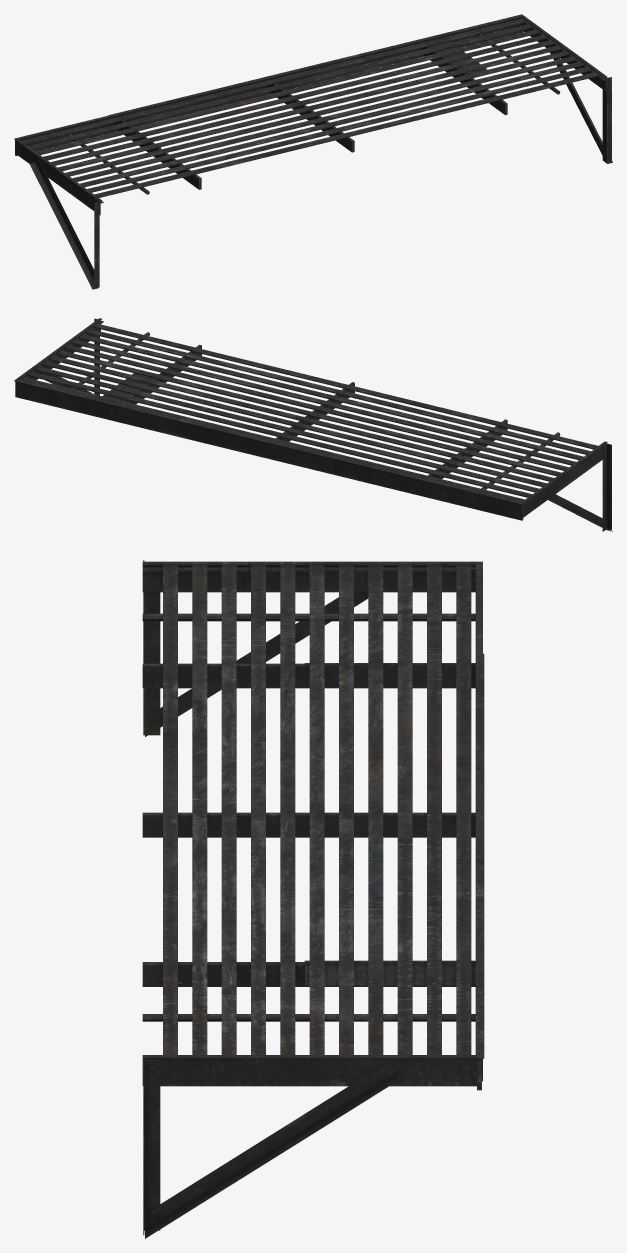
The model's file is fire_escape_platform_bottom.glb.
The picture shows the model from 3 angles, top to bottom: view 1: azimuth 30°, elevation 25°; view 2: azimuth 150°, elevation 25°; view 3: azimuth 270°, elevation 25°; orthographic projection. The views are drawn at different scales.
Visible parts, largest first — view 1: fire_escape_platform_bottom; view 2: fire_escape_platform_bottom; view 3: fire_escape_platform_bottom.
Boxes of the visible parts, x1,y1,x2,y2 form: fire_escape_platform_bottom: (14, 14, 612, 289); fire_escape_platform_bottom: (14, 318, 612, 531); fire_escape_platform_bottom: (142, 560, 484, 1238).
Bounding box in the file's own units: 4.79 × 0.7724 × 1.36.
Materials: 1 (1 with a texture image).
